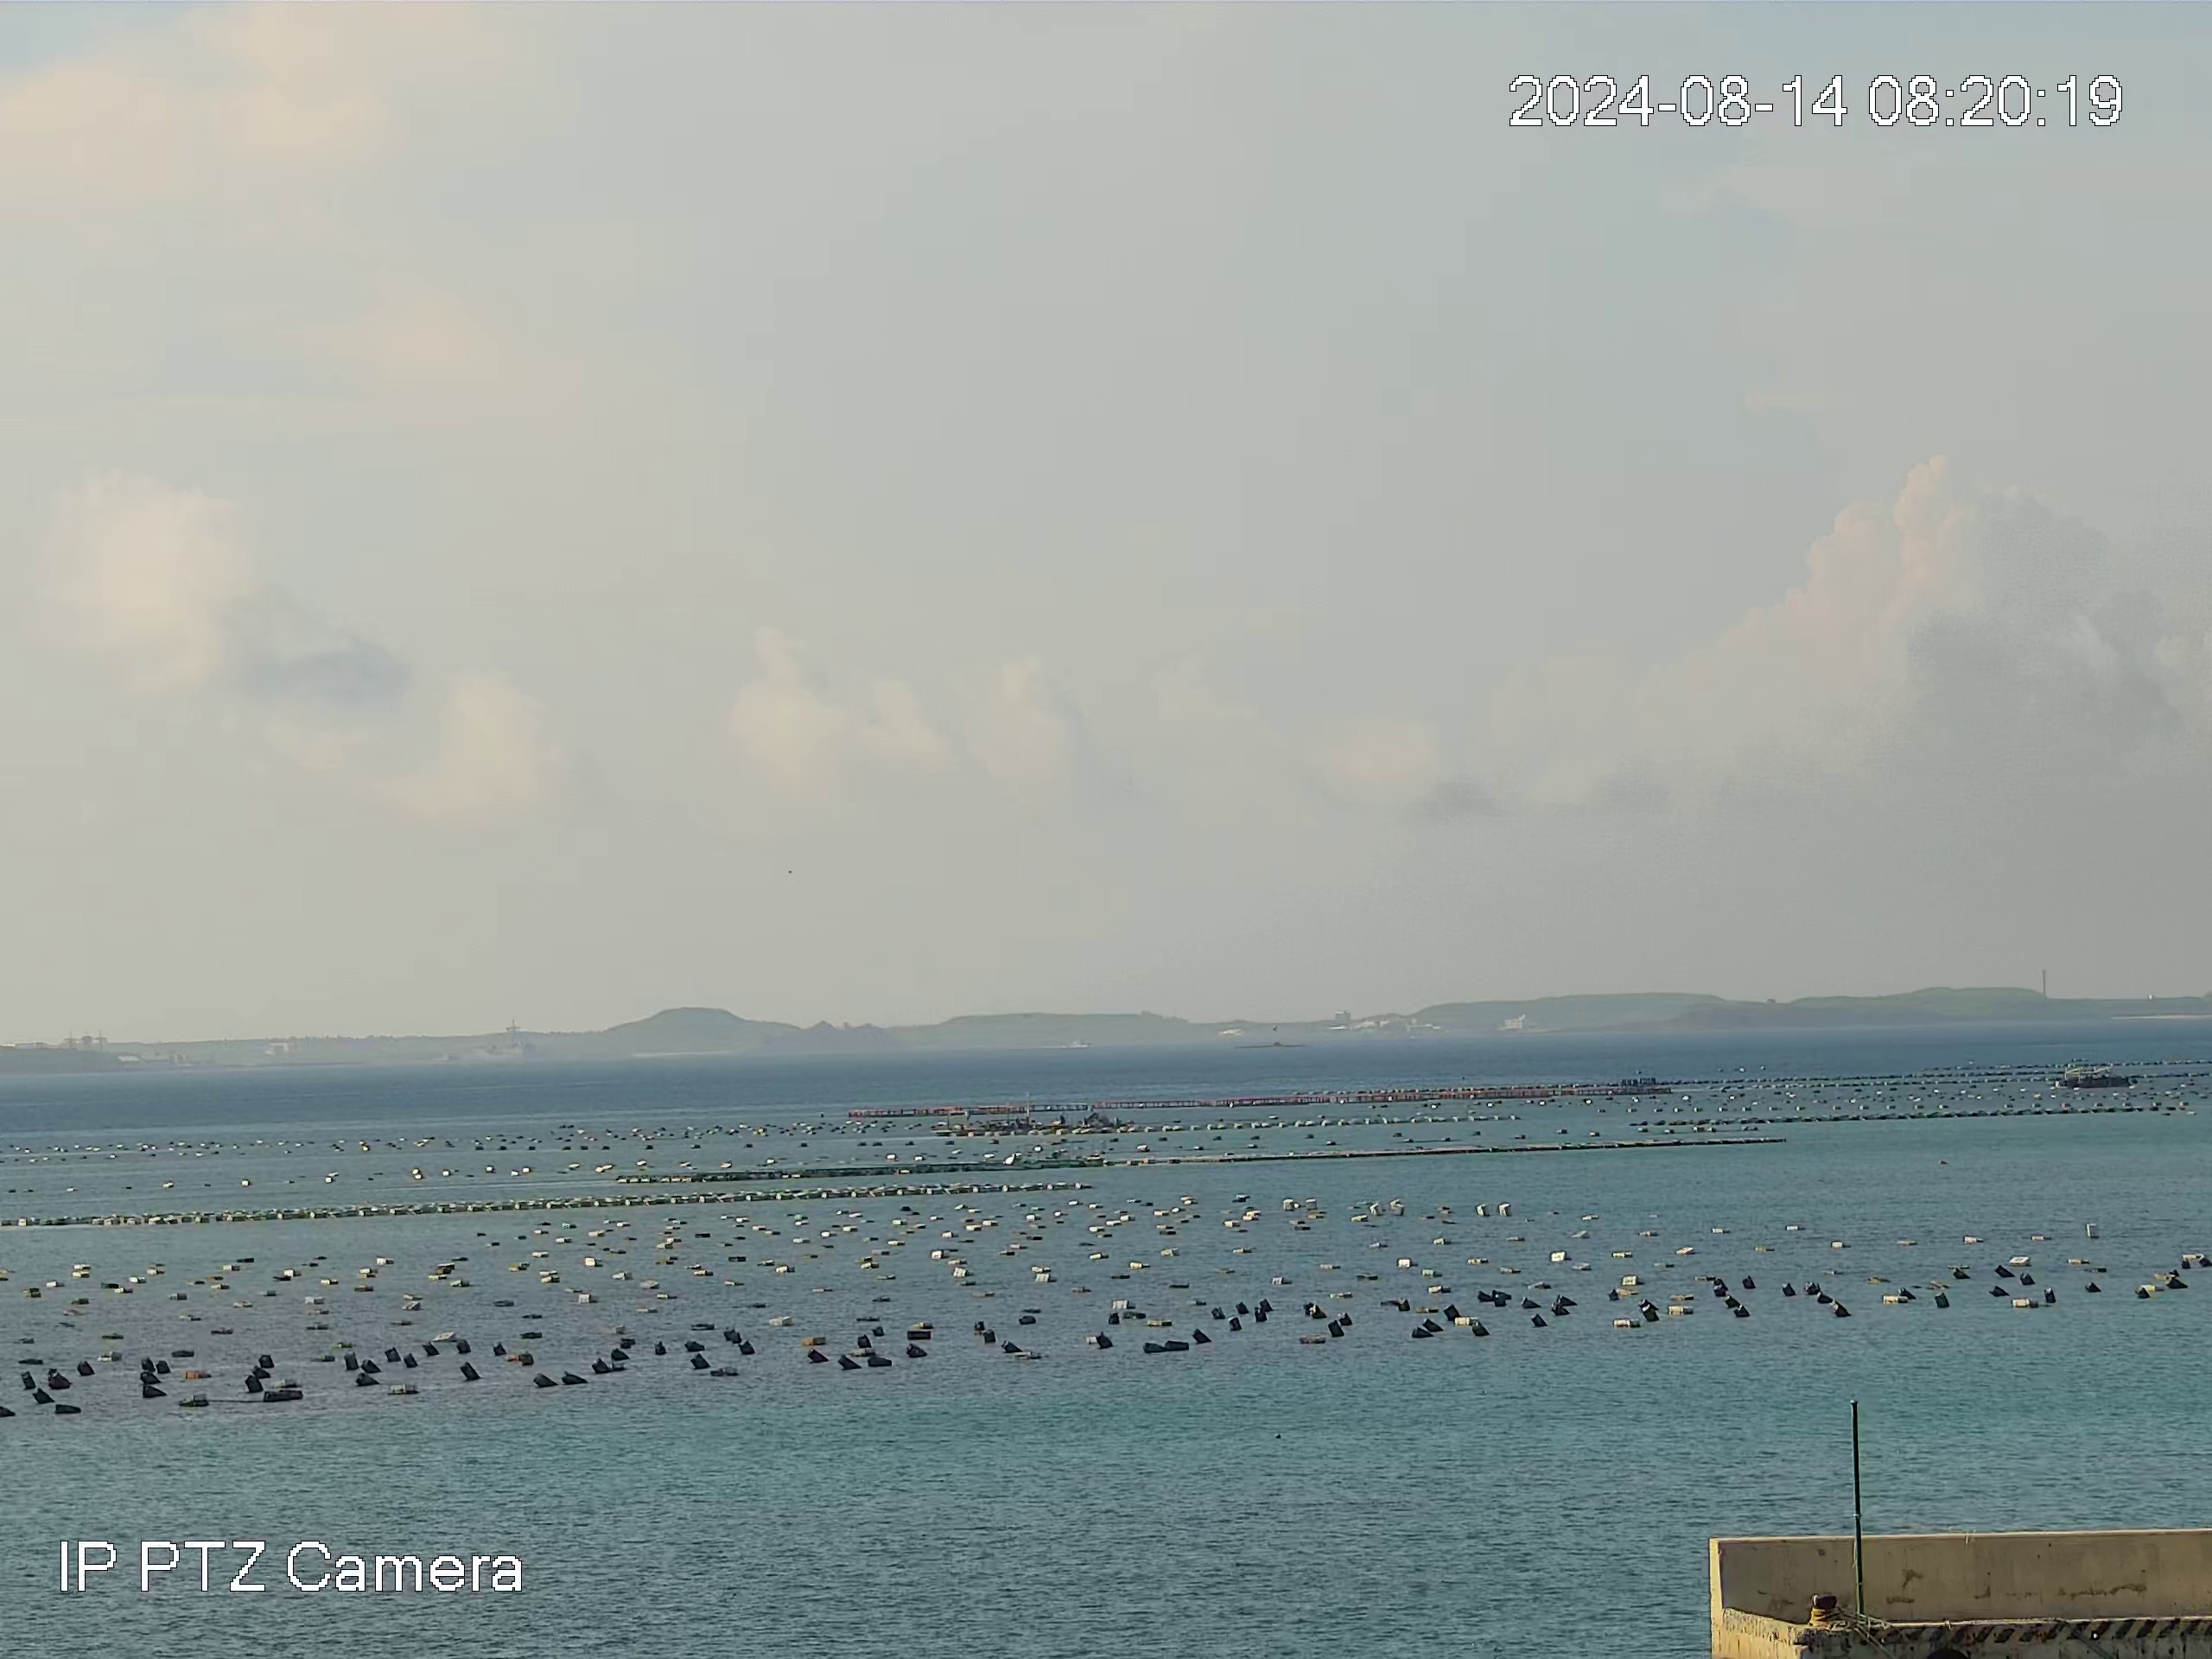boat: (2057, 1061, 2135, 1089)
